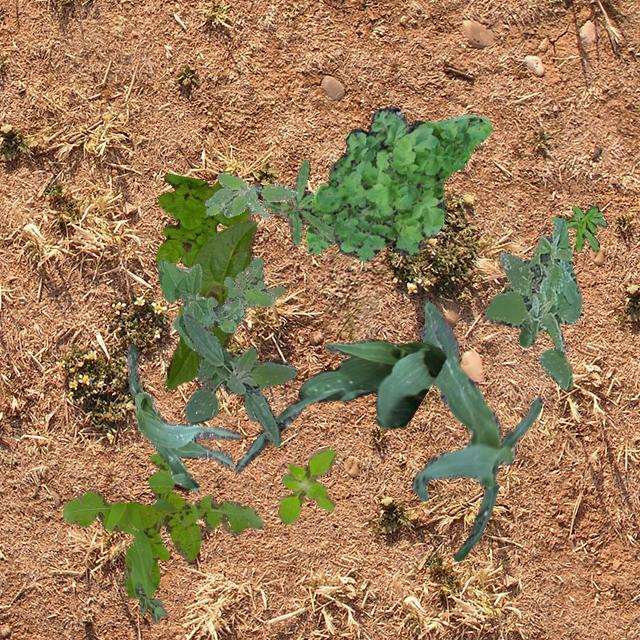crop: (411, 300, 542, 560), (233, 338, 444, 472), (126, 342, 242, 490), (164, 220, 256, 388), (156, 258, 206, 350)
weed: (61, 452, 262, 598), (304, 106, 492, 260), (484, 216, 580, 388), (182, 314, 296, 446), (154, 172, 250, 314), (198, 256, 284, 332), (260, 158, 334, 244), (276, 446, 336, 524), (204, 172, 296, 218), (550, 204, 606, 250), (134, 582, 166, 622)
